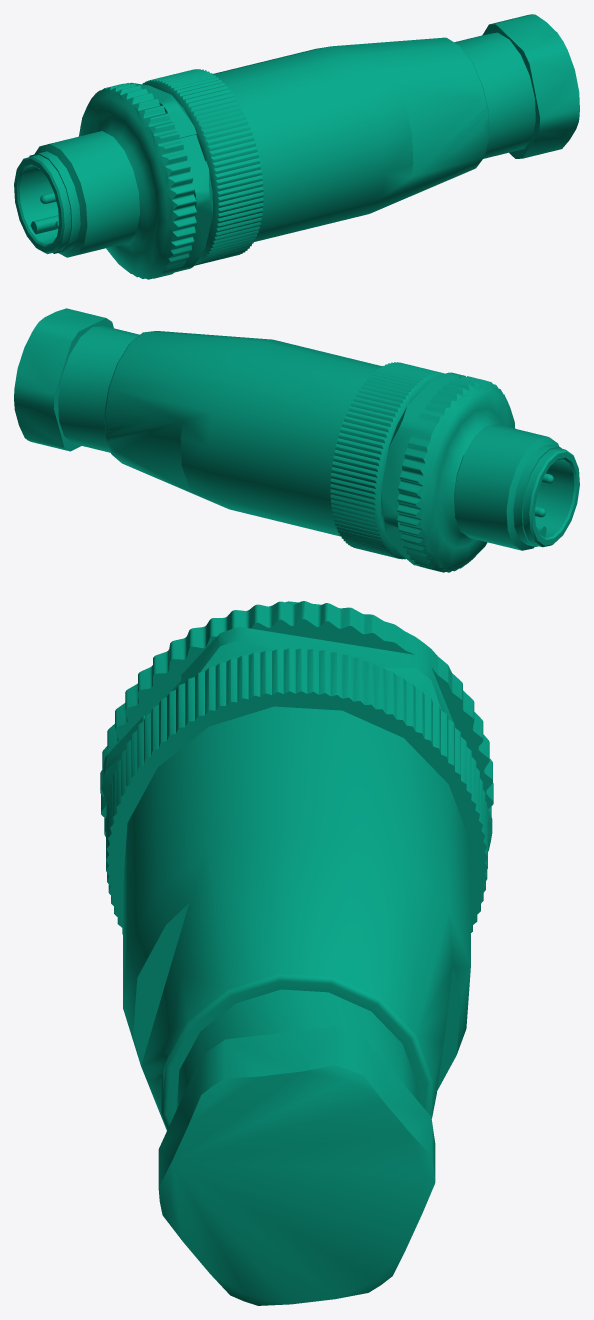
3 renders of one model, top to bottom at view 1: azimuth 30°, elevation 25°; view 2: azimuth 150°, elevation 25°; view 3: azimuth 270°, elevation 25°, orthographic. The views are drawn at different scales.
Parts seen in each view (by area): view 1: _Field-attachable10002845_0; view 2: _Field-attachable10002845_0; view 3: _Field-attachable10002845_0.
Boxes of the visible parts, left/top/right/bottom form: _Field-attachable10002845_0: left=14, top=14, right=579, bottom=279; _Field-attachable10002845_0: left=14, top=308, right=579, bottom=572; _Field-attachable10002845_0: left=100, top=601, right=493, bottom=1305.
Bounding box in the file's own units: 60.4 × 20.19 × 20.19.
